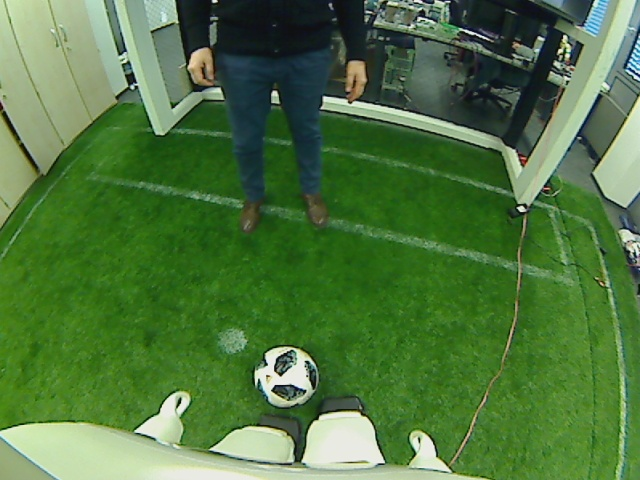ball: (253, 342, 321, 409)
